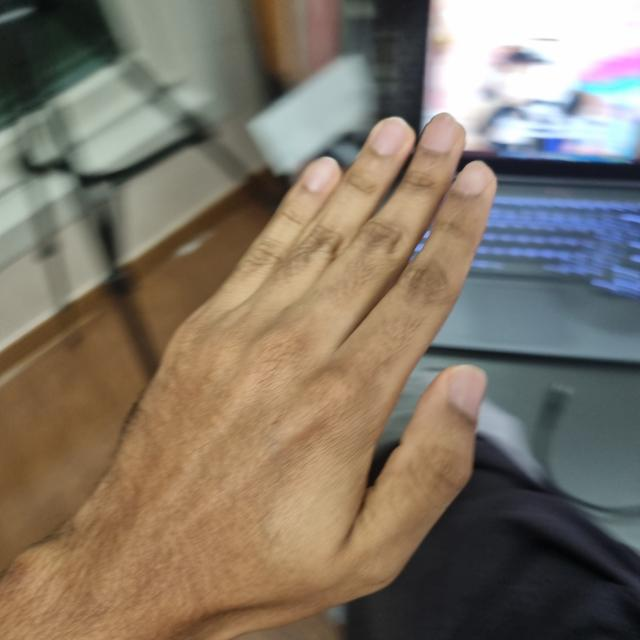Paper: (87, 115, 496, 632)
